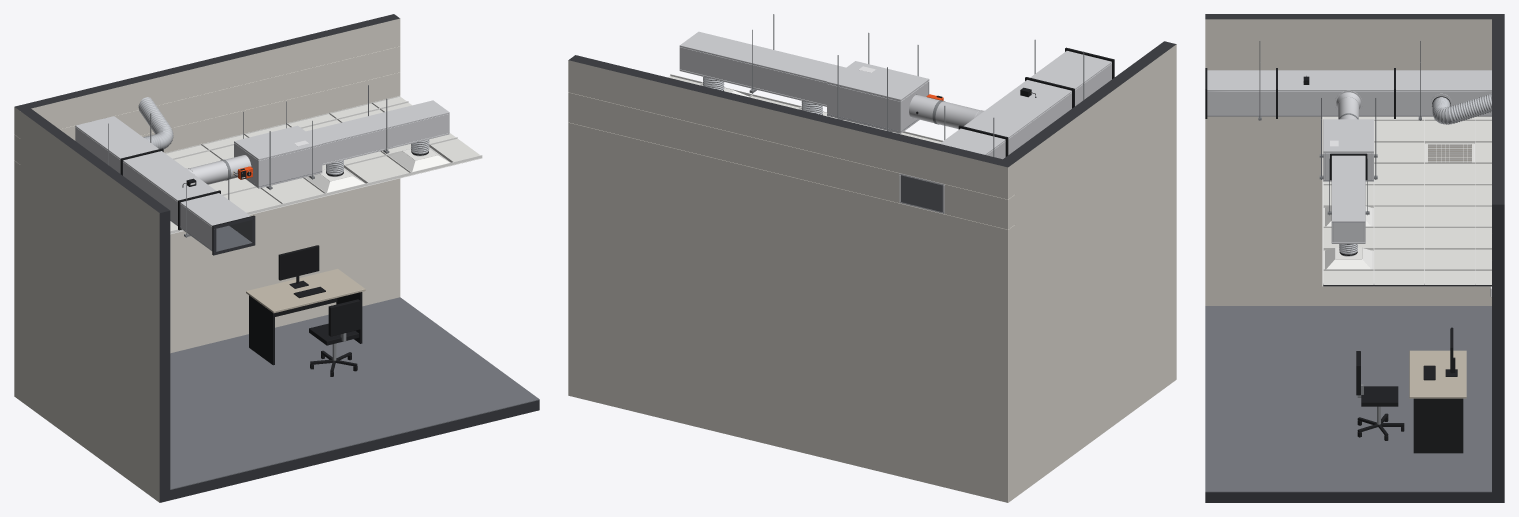
3 views of the same model, side by side, from view 1: azimuth 30°, elevation 25°; view 2: azimuth 150°, elevation 25°; view 3: azimuth 270°, elevation 25° (orthographic). The views are drawn at different scales.
Parts seen in each view (by area): view 1: room_wall_back, room_wall_left, room_floor, supply_main, ceiling_tiles, desk, sa_discharge, sa_discharge_front, ceiling_grid, vav_casing, chair, vav_casing_front (+5 smaller); view 2: room_wall_back, room_wall_left, supply_main, sa_discharge, vav_casing, branch_duct, vav_inlet; view 3: room_floor, room_wall_left, ceiling_tiles, supply_main, room_wall_back, desk, sa_discharge, ceiling_grid, vav_casing, chair, neighbor_takeoff, diffuser_02 (+4 smaller).
Boxes of the visible parts, bbox=[...] form: room_wall_back: bbox=[14, 14, 400, 400]; room_wall_left: bbox=[20, 108, 170, 502]; room_floor: bbox=[170, 297, 539, 500]; supply_main: bbox=[75, 116, 255, 255]; ceiling_tiles: bbox=[166, 96, 480, 230]; desk: bbox=[246, 269, 365, 365]; sa_discharge: bbox=[306, 100, 449, 165]; sa_discharge_front: bbox=[322, 113, 449, 163]; ceiling_grid: bbox=[165, 96, 482, 234]; vav_casing: bbox=[234, 125, 322, 188]; chair: bbox=[309, 299, 360, 376]; vav_casing_front: bbox=[257, 145, 322, 186]; room_wall_back: bbox=[568, 55, 1015, 502]; room_wall_left: bbox=[1003, 41, 1176, 497]; supply_main: bbox=[899, 47, 1114, 213]; sa_discharge: bbox=[679, 31, 845, 106]; vav_casing: bbox=[827, 61, 929, 133]; branch_duct: bbox=[935, 101, 984, 128]; vav_inlet: bbox=[909, 95, 944, 124]; room_floor: bbox=[1205, 306, 1491, 502]; room_wall_left: bbox=[1205, 14, 1491, 305]; ceiling_tiles: bbox=[1323, 116, 1491, 286]; supply_main: bbox=[1205, 68, 1491, 118]; room_wall_back: bbox=[1492, 14, 1504, 502]; desk: bbox=[1409, 350, 1466, 453]; sa_discharge: bbox=[1330, 153, 1367, 243]; ceiling_grid: bbox=[1322, 116, 1491, 286]; vav_casing: bbox=[1323, 119, 1373, 181]; chair: bbox=[1356, 351, 1404, 440]; neighbor_takeoff: bbox=[1431, 93, 1491, 124]; diffuser_02: bbox=[1324, 247, 1372, 269].
Bounding box in the file's own units: 5.35 × 3.9 × 3.55.
